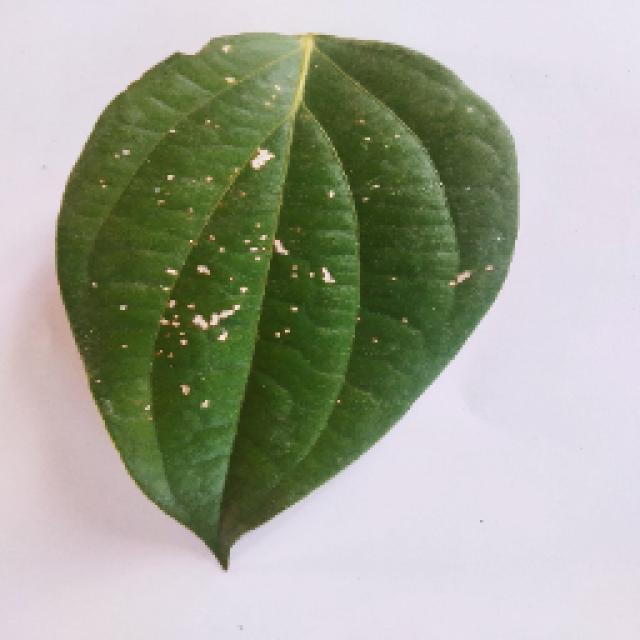pollu-disease: (58, 30, 518, 568)
